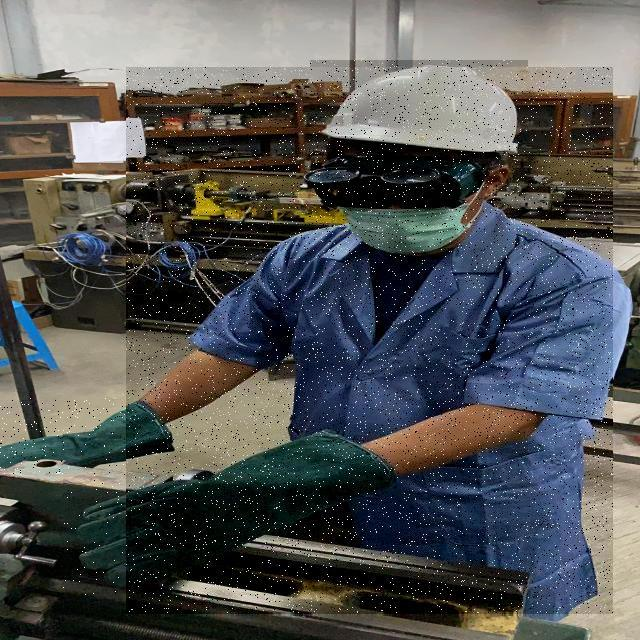Gloves: (72, 415, 433, 609), (8, 385, 179, 482)
Helmet: (311, 60, 529, 158)
Person: (0, 48, 640, 640)
no-vest: (189, 212, 624, 631)
